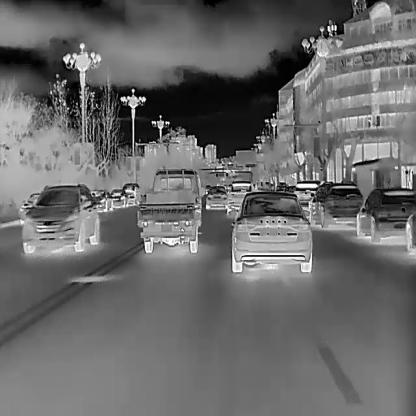car: (230, 191, 312, 272), (21, 184, 99, 254), (355, 187, 415, 244), (308, 181, 364, 228), (294, 180, 320, 223), (226, 180, 254, 214), (17, 190, 41, 224), (204, 184, 228, 210), (89, 189, 112, 213), (120, 182, 140, 206), (108, 188, 126, 207)
truck: (136, 168, 201, 253)
